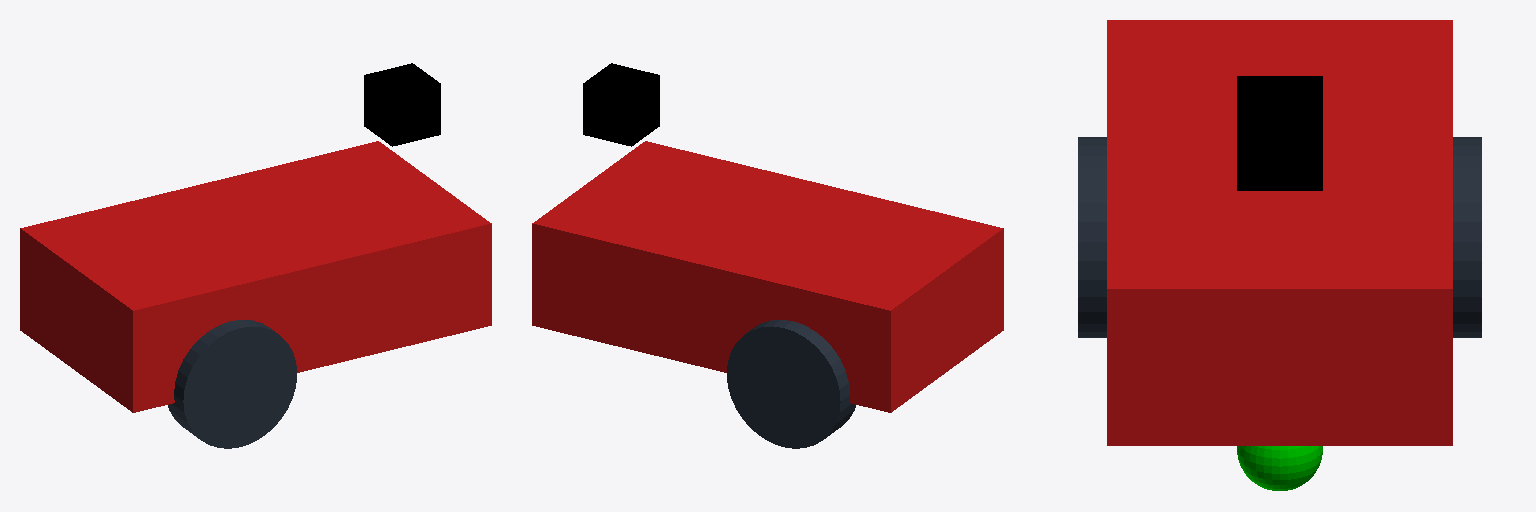
URDF robot description (animal_robot):
<?xml version="1.0" ?>
<robot name="animal_robot">
  <material name="black">
    <color rgba="0.0 0.0 0.0 1.0"/>
  </material>
  <material name="blue">
    <color rgba="0.203125 0.23828125 0.28515625 1.0"/>
  </material>
  <material name="green">
    <color rgba="0.0 0.8 0.0 1.0"/>
  </material>
  <material name="grey">
    <color rgba="0.2 0.2 0.2 1.0"/>
  </material>
  <material name="orange">
    <color rgba="1.0 0.423529411765 0.0392156862745 1.0"/>
  </material>
  <material name="brown">
    <color rgba="0.870588235294 0.811764705882 0.764705882353 1.0"/>
  </material>
  <material name="red">
    <color rgba="0.80078125 0.12890625 0.1328125 1.0"/>
  </material>
  <material name="white">
    <color rgba="1.0 1.0 1.0 1.0"/>
  </material>

  <gazebo reference="chassis">
    <material>Gazebo/Red</material>
    <mu1>0.5</mu1>
    <mu2>0.5</mu2>
  </gazebo>

  <gazebo reference="left_wheel">
    <kp>100000.0</kp>
    <kd>10.0</kd>
    <mu1>1.5</mu1>
    <mu2>1.5</mu2>
    <minDepth>0.005</minDepth>
    <maxVel>1.0</maxVel>
    <material>Gazebo/Blue</material>
  </gazebo>

  <gazebo reference="right_wheel">
    <kp>100000.0</kp>
    <kd>10.0</kd>
    <mu1>1.5</mu1>
    <mu2>1.5</mu2>
    <minDepth>0.005</minDepth>
    <maxVel>1.0</maxVel>
    <material>Gazebo/Blue</material>
  </gazebo>

  <!-- differential drive plugin -->
  <gazebo>
    <plugin filename="libgazebo_ros_diff_drive.so" name="differential_drive_controller">
      <ros>
        <namespace>/animal_robot</namespace>
      </ros>

      <!-- update rate -->
      <update_rate>50</update_rate>

      <!-- wheels -->
      <left_joint>joint_left_wheel</left_joint>
      <right_joint>joint_right_wheel</right_joint>

      <!-- kinematics -->
      <wheel_separation>0.12</wheel_separation>
      <wheel_diameter>0.07</wheel_diameter>

      <!-- limits -->
      <max_wheel_torque>20.0</max_wheel_torque>
      <max_wheel_acceleration>5.0</max_wheel_acceleration>

      <!-- output -->
      <publish_odom>true</publish_odom>
      <publish_odom_tf>true</publish_odom_tf>

      <odometry_frame>odom</odometry_frame>
      <robot_base_frame>chassis</robot_base_frame>
    </plugin>
  </gazebo>

  <link name="base_link"></link>
  
  <link name="chassis">
    <pose>0 0 0 0 0 0</pose>
    <inertial>
      <mass value="3.0"/>
      <origin rpy="0 0 0" xyz="0 0 -0.02"/>
      <inertia ixx="0.008" ixy="0" ixz="0" iyy="0.015" iyz="0" izz="0.020"/>
    </inertial>
    <collision name="collision_chassis">
      <geometry>
        <box size="0.22 0.12 0.06"/>
      </geometry>
    </collision>
    <visual name="visual_chassis">
      <geometry>
        <box size="0.22 0.12 0.06"/>
      </geometry>
      <material name="red"/>
    </visual>
  </link>

  <joint name="base_link_joint" type="fixed">
    <origin rpy="0 0 0" xyz="0 0 0"/>
    <parent link="base_link"/>
    <child link="chassis"/>
  </joint>

  <!-- STABLE FORWARD-FACING CAMERA -->
  <link name='rgb_cam_camera_link'>
    <inertial>
      <mass value="0.05"/>
      <origin rpy="0 0 0" xyz="0 0 0"/>
      <inertia ixx="0.0001" ixy="0" ixz="0" iyy="0.0001" iyz="0" izz="0.0001"/>
    </inertial>
    <visual>
      <origin xyz="0 0 0" rpy="0 0 0"/>
      <geometry>
        <box size="0.03 0.03 0.03"/>
      </geometry>
      <material name="black"/>
    </visual>
  </link>

  <joint name="rgb_cam_camera_link_joint" type="fixed">
    <origin rpy="0 0 0" xyz="0.09 0.0 0.08"/>
    <parent link="chassis"/>
    <child link="rgb_cam_camera_link"/>
  </joint>

  <link name="rgb_cam_camera_link_frame"></link>

  <joint name="rgb_cam_camera_frame_joint" type="fixed">
    <origin xyz="0.01 0 0" rpy="0 0 0" />
    <parent link="rgb_cam_camera_link" />
    <child link="rgb_cam_camera_link_frame" />
    <axis xyz="0 0 0"/>
  </joint>

  <gazebo reference="rgb_cam_camera_link_frame">
    <sensor type="camera" name="rgb_cam">
      <always_on>1</always_on>
      <update_rate>15.0</update_rate>
      <camera name="rgb_cam">
        <pose>0 0 0 0 0 0</pose>
        <horizontal_fov>1.3962634</horizontal_fov>
        <image>
          <width>640</width>
          <height>480</height>
          <format>R8G8B8</format>
        </image>
        <clip>
          <near>0.05</near>
          <far>25.0</far>
        </clip>
      </camera>
      <plugin name="camera_controller" filename="libgazebo_ros_camera.so">
        <ros>
          <namespace>/</namespace>
          <remapping>image_raw:=/rgb_cam/image_raw</remapping>
          <remapping>camera_info:=/rgb_cam/camera_info</remapping>
        </ros>
        <camera_name>rgb_cam</camera_name>
        <frame_name>rgb_cam_camera_link_frame</frame_name>
        <hack_baseline>0.07</hack_baseline>
      </plugin>
    </sensor>
  </gazebo>

  <link name="right_wheel">
    <inertial>
      <mass value="0.3"/>
      <origin rpy="0 1.5707 1.5707" xyz="0 0 0"/>
      <inertia ixx="0.0001" ixy="0" ixz="0" iyy="0.0001" iyz="0" izz="0.0002"/>
    </inertial>
    <collision name="link_right_wheel_collision">
      <origin rpy="0 1.5707 1.5707" xyz="0 0 0"/>
      <geometry>
        <cylinder length="0.02" radius="0.035"/>
      </geometry>
    </collision>
    <visual name="link_right_wheel_visual">
      <origin rpy="0 1.5707 1.5707" xyz="0 0 0"/>
      <geometry>
        <cylinder length="0.02" radius="0.035"/>
      </geometry>
      <material name="blue"/>
    </visual>
  </link>

  <joint name="joint_right_wheel" type="continuous">
    <origin rpy="0 0 0" xyz="-0.05 -0.06 -0.025"/>
    <child link="right_wheel"/>
    <parent link="chassis"/>
    <axis rpy="0 0 0" xyz="0 1 0"/>
    <limit effort="20.0" velocity="20.0"/>
    <dynamics damping="0.1" friction="0.05"/>
  </joint>

  <link name="left_wheel">
    <inertial>
      <mass value="0.3"/>
      <origin rpy="0 1.5707 1.5707" xyz="0 0 0"/>
      <inertia ixx="0.0001" ixy="0" ixz="0" iyy="0.0001" iyz="0" izz="0.0002"/>
    </inertial>
    <collision name="link_left_wheel_collision">
      <origin rpy="0 1.5707 1.5707" xyz="0 0 0"/>
      <geometry>
        <cylinder length="0.02" radius="0.035"/>
      </geometry>
    </collision>
    <visual name="link_left_wheel_visual">
      <origin rpy="0 1.5707 1.5707" xyz="0 0 0"/>
      <geometry>
        <cylinder length="0.02" radius="0.035"/>
      </geometry>
      <material name="blue"/>
    </visual>
  </link>

  <joint name="joint_left_wheel" type="continuous">
    <origin rpy="0 0 0" xyz="-0.05 0.06 -0.025"/>
    <child link="left_wheel"/>
    <parent link="chassis"/>
    <axis rpy="0 0 0" xyz="0 1 0"/>
    <limit effort="20.0" velocity="20.0"/>
    <dynamics damping="0.1" friction="0.05"/>
  </joint>

  <!-- STABILIZED FRONT CASTER BALL -->
  <link name="front_pitch_link">
    <inertial>
      <mass value="0.2"/>
      <origin rpy="0 0 0" xyz="0 0 0"/>
      <inertia ixx="0.00005" ixy="0" ixz="0" iyy="0.00005" iyz="0" izz="0.00005"/>
    </inertial>
    <collision name="front_collision">
      <origin rpy="0 0 0" xyz="0 0 0"/>
      <geometry>
        <sphere radius="0.015"/>
      </geometry>
    </collision>
    <visual name="front_visual">
      <origin rpy="0 0 0" xyz="0 0 0"/>
      <geometry>
        <sphere radius="0.015"/>
      </geometry>
      <material name="green"/>
    </visual>
  </link>

  <joint name="front_pitch_joint" type="fixed">
    <origin rpy="0 0 0" xyz="0.08 0 -0.045"/>
    <parent link="chassis"/>
    <child link="front_pitch_link"/>
  </joint>

  <gazebo reference="front_pitch_link">
    <kp>50000.0</kp>
    <kd>20.0</kd>
    <mu1>0.001</mu1>
    <mu2>0.001</mu2>
    <minDepth>0.005</minDepth>
    <maxVel>1.0</maxVel>
    <material>Gazebo/Green</material>
  </gazebo>
  
</robot>

--- What the picture shows (computed from the rendered views, not written in the file) ---
3 views of the same robot in one strip: view 1: azimuth 30°, elevation 25°; view 2: azimuth 150°, elevation 25°; view 3: azimuth 270°, elevation 25° (orthographic).
Model animal_robot with 7 links and 6 joints (2 continuous, 4 fixed), rooted at base_link, posed all joints at 0.
Visible links, largest first — view 1: chassis, right_wheel, rgb_cam_camera_link; view 2: chassis, left_wheel, rgb_cam_camera_link; view 3: chassis, rgb_cam_camera_link, right_wheel, left_wheel, front_pitch_link.
Boxes of the visible links, x1=… form: chassis: x1=20, y1=141, x2=491, y2=412; right_wheel: x1=168, y1=320, x2=296, y2=448; rgb_cam_camera_link: x1=364, y1=63, x2=440, y2=146; chassis: x1=532, y1=141, x2=1003, y2=412; left_wheel: x1=727, y1=320, x2=855, y2=448; rgb_cam_camera_link: x1=583, y1=63, x2=659, y2=146; chassis: x1=1107, y1=20, x2=1452, y2=445; rgb_cam_camera_link: x1=1237, y1=76, x2=1322, y2=190; right_wheel: x1=1078, y1=137, x2=1106, y2=337; left_wheel: x1=1453, y1=137, x2=1481, y2=337; front_pitch_link: x1=1237, y1=446, x2=1322, y2=490.
Bounding box of the posed robot: 0.22 × 0.14 × 0.155 m (x, y, z).
Geometry: primitives only (box / cylinder / sphere), no mesh files.
